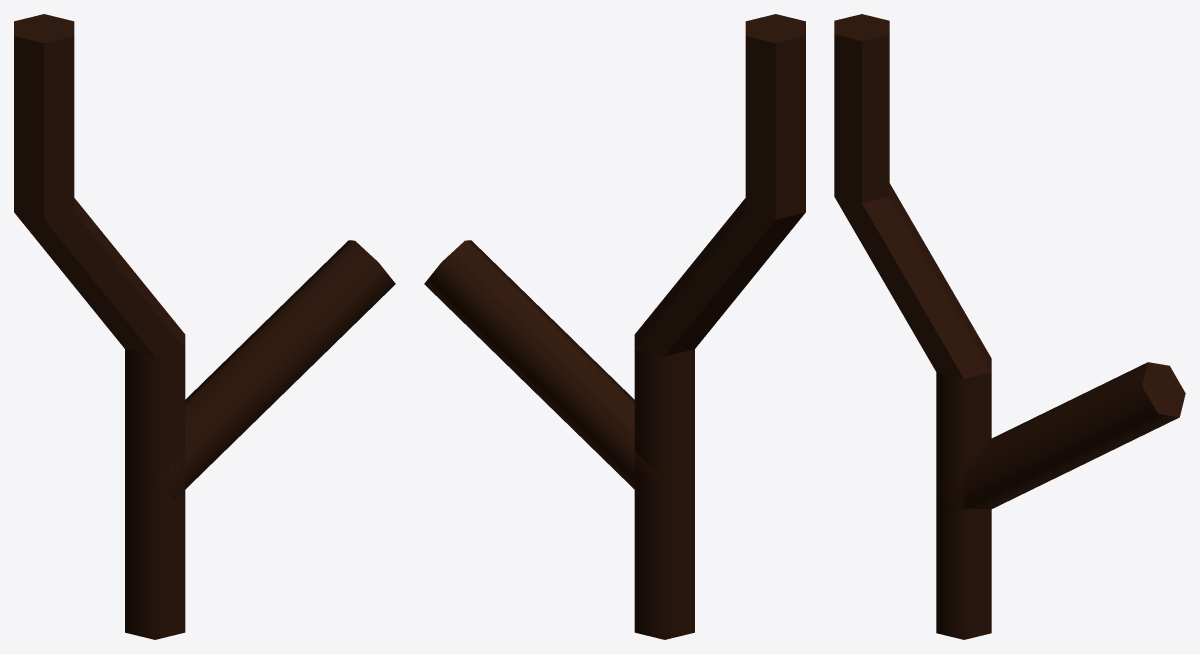
Rendered from stick.FBX.
3 views of the same model, side by side, from view 1: azimuth 30°, elevation 25°; view 2: azimuth 150°, elevation 25°; view 3: azimuth 330°, elevation 25° (orthographic). The views are drawn at different scales.
Parts seen in each view (by area): view 1: Cylinder001; view 2: Cylinder001; view 3: Cylinder001.
Boxes of the visible parts, x1,y1,x2,y2 form: Cylinder001: (14,14,395,639); Cylinder001: (424,14,805,639); Cylinder001: (834,14,1185,639).
Bounding box in the file's own units: 31.54 × 50.06 × 4.38.
